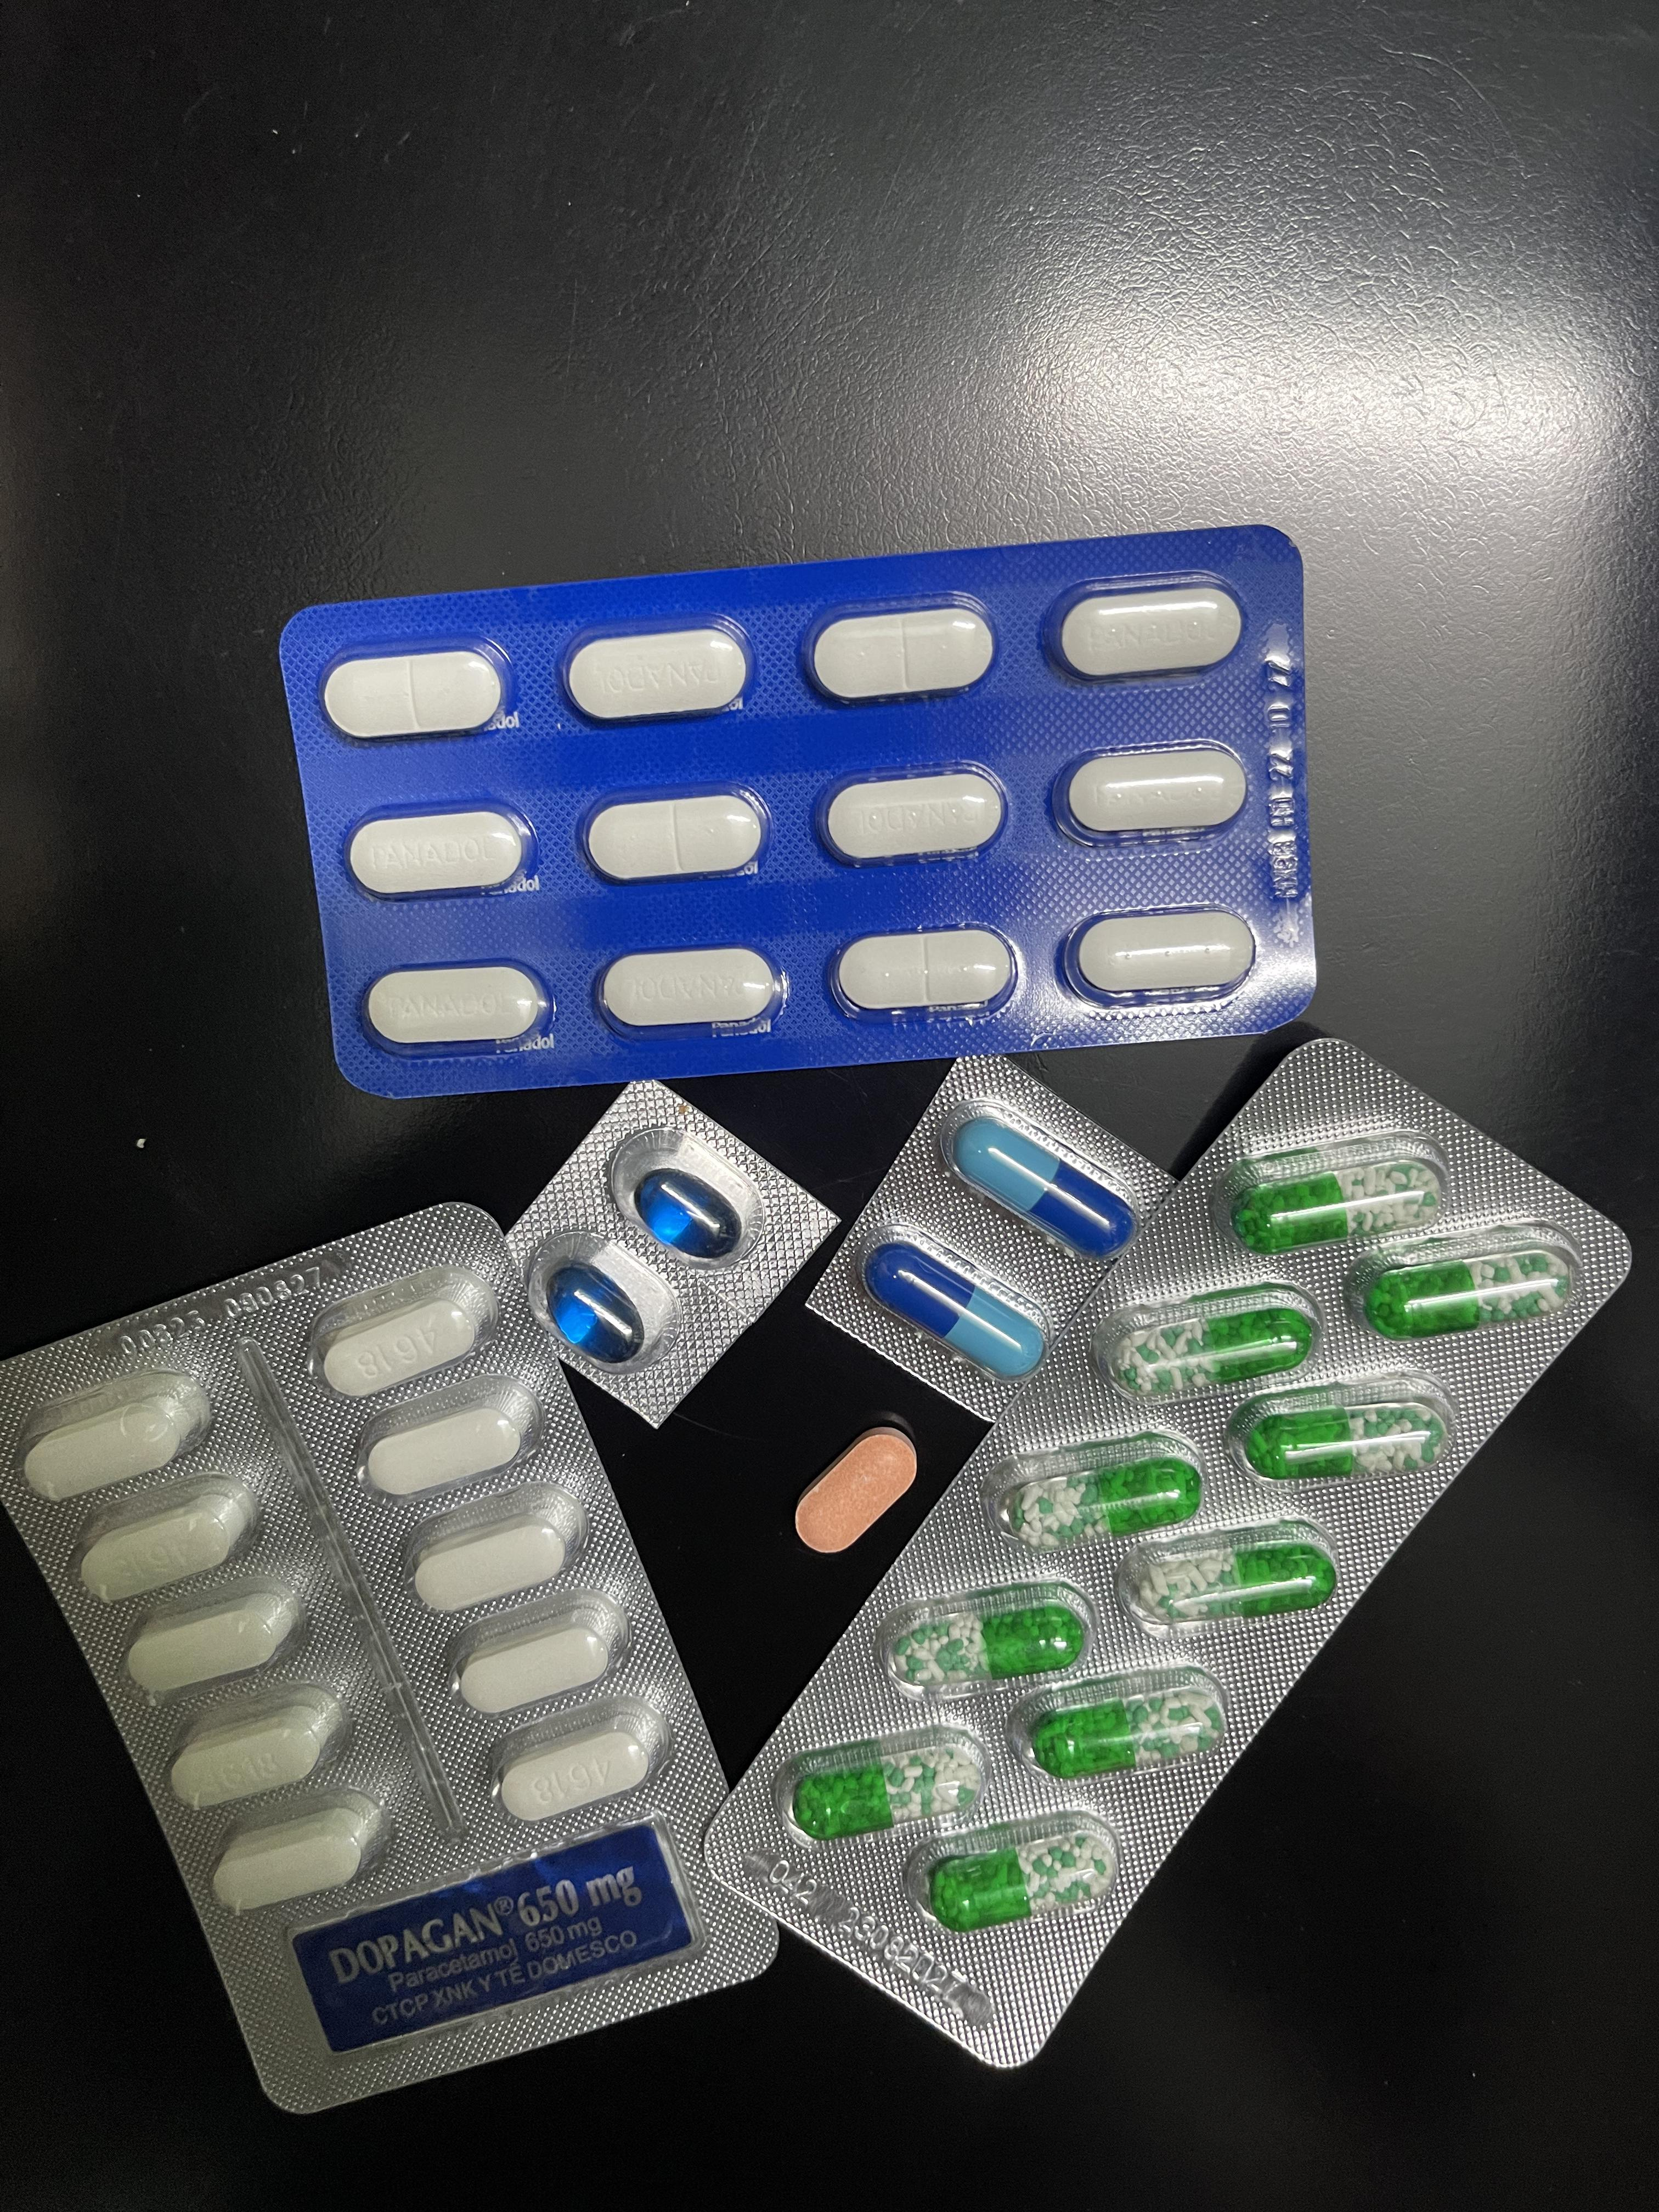Lincomyxin_500mg: (635, 1167, 746, 1259), (546, 1265, 648, 1362)
Loratadine_10mg: (790, 1423, 914, 1559)
Paracetamol_350mg: (1043, 574, 1246, 687), (561, 618, 756, 724), (319, 638, 511, 743), (1054, 744, 1251, 845), (820, 764, 1007, 868), (581, 784, 771, 886), (346, 803, 537, 904), (1064, 907, 1258, 1003), (809, 606, 991, 704), (361, 963, 552, 1054), (595, 946, 782, 1035), (834, 929, 1015, 1020)
Paracetamol_500mg: (22, 1372, 217, 1503), (124, 1562, 310, 1697), (74, 1474, 263, 1604), (356, 1376, 545, 1503), (403, 1483, 588, 1612), (490, 1693, 674, 1822), (167, 1682, 350, 1811), (314, 1267, 492, 1397), (208, 1789, 391, 1914), (449, 1588, 630, 1713)
Paracetamol_650mg: (904, 1810, 1120, 1936), (1231, 1158, 1440, 1251), (1364, 1249, 1574, 1336), (795, 1742, 983, 1839), (1118, 1311, 1306, 1396), (889, 1601, 1085, 1682), (1032, 1689, 1217, 1774), (1145, 1542, 1335, 1619), (1006, 1469, 1189, 1547), (1241, 1406, 1437, 1477)
pill: (951, 1120, 1133, 1259), (868, 1244, 1044, 1378)
